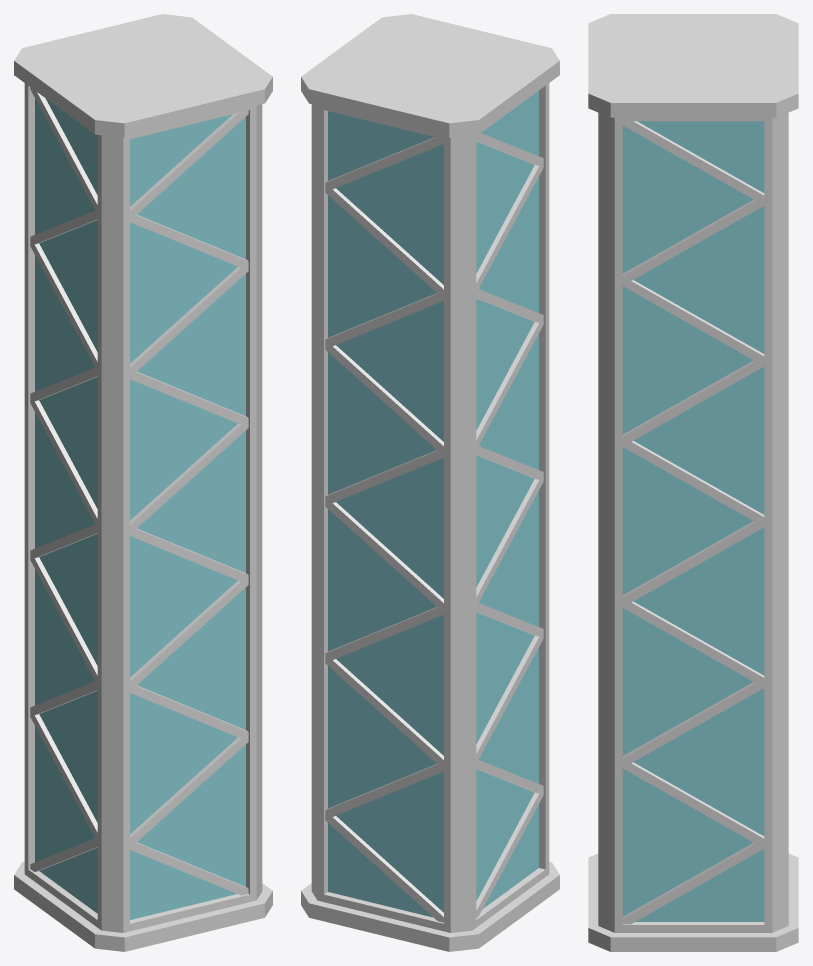
File: Buillding3.fbx
The picture shows the model from 3 angles, left to right: view 1: azimuth 30°, elevation 25°; view 2: azimuth 150°, elevation 25°; view 3: azimuth 270°, elevation 25°; orthographic projection. The views are drawn at different scales.
Visible parts, largest first — view 1: Cube; view 2: Cube; view 3: Cube.
Part boxes in pixels (bbox=[...]): Cube: bbox=[14, 14, 272, 951]; Cube: bbox=[301, 14, 559, 951]; Cube: bbox=[588, 14, 798, 951].
Size of the model in its own units: 3860 by 17186 by 3860.
